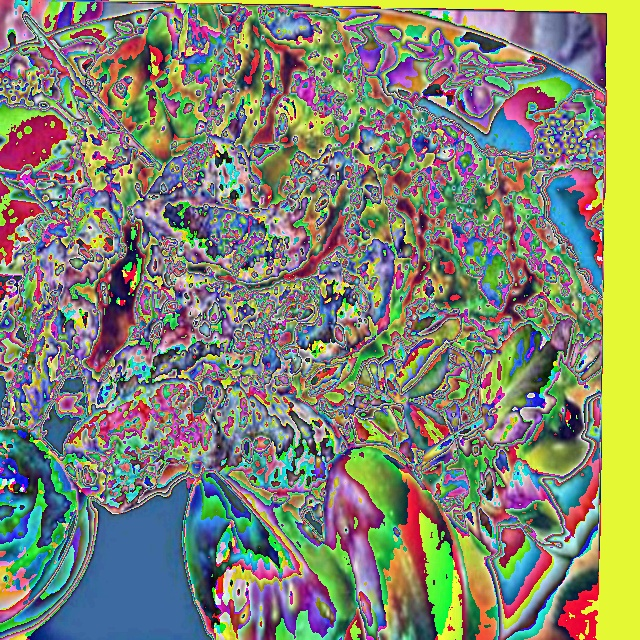background: (0, 4, 603, 639)
